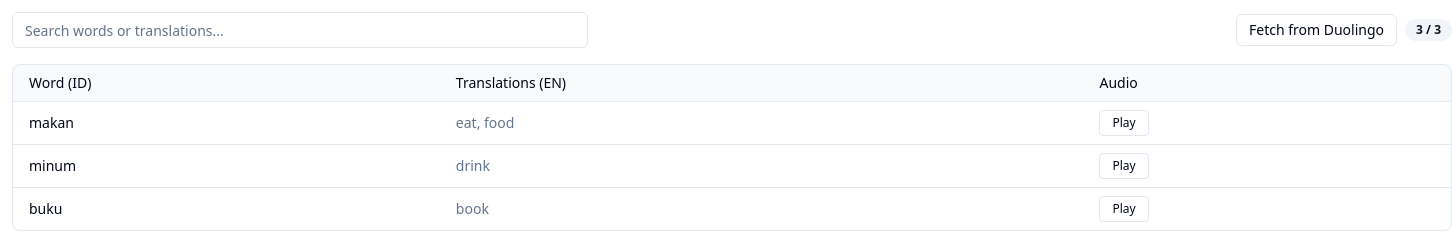
Test: WordsTable › Audio playback › should update button text to Pause when playing
Click the button with aria-label "Play audio for makan" at (1124, 123), box [1100,110,1149,136]
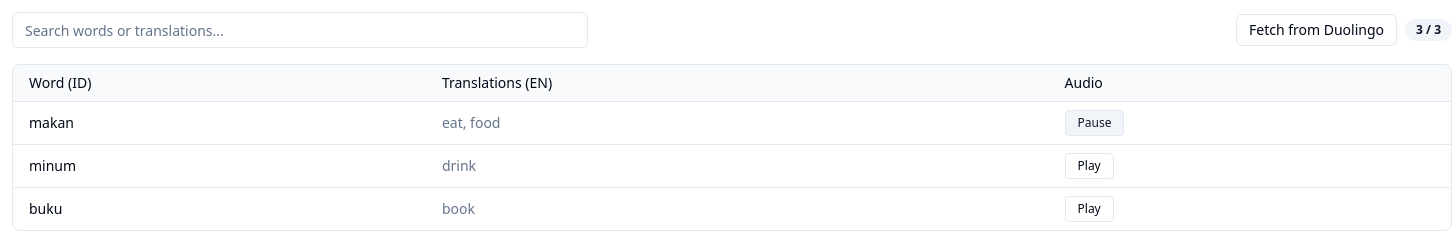
Now the button with aria-label "Pause audio for makan" reads "Pause", box [1064,110,1124,136]
